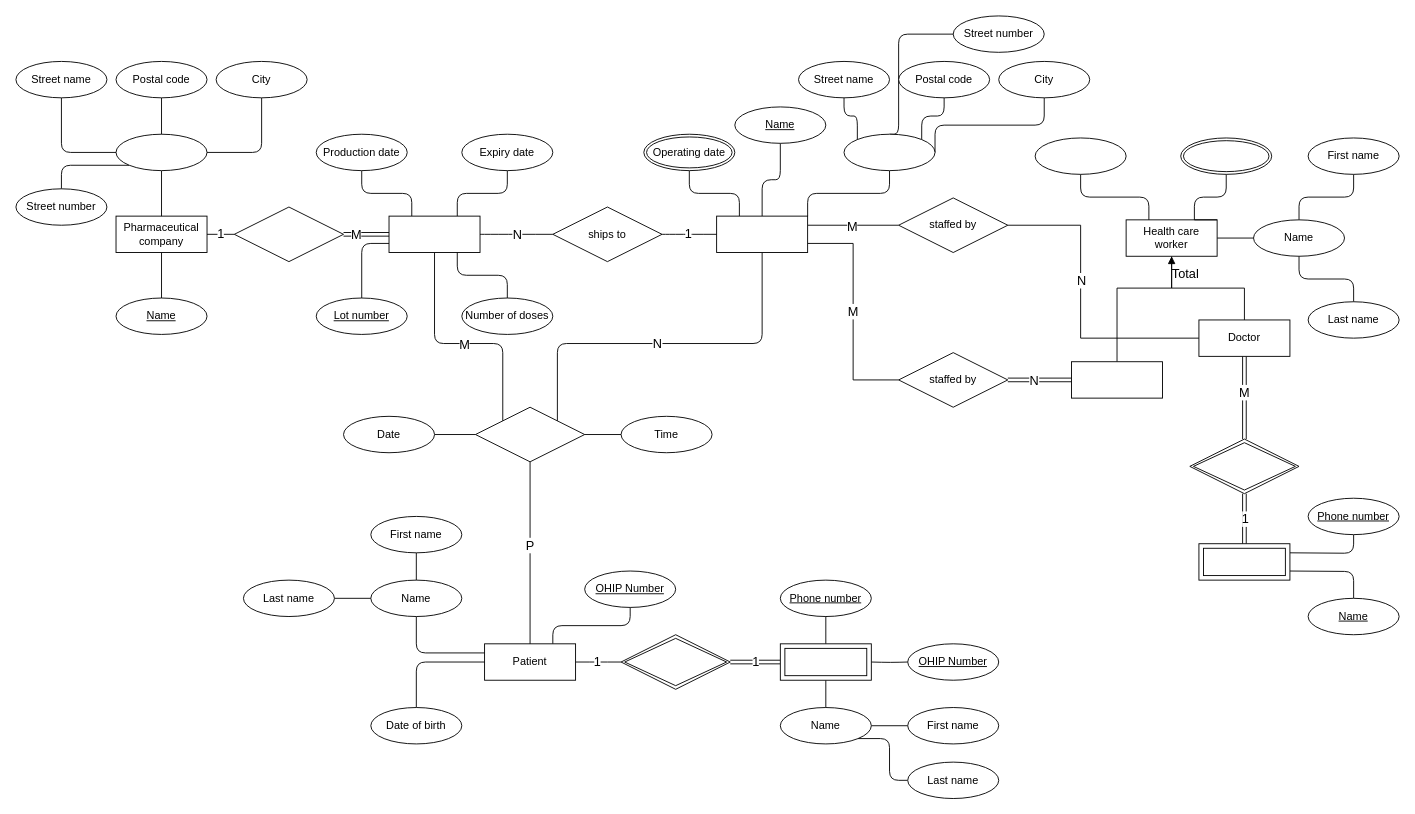
This 1415x814 diagram has some shape labels left out. The shapes that lost their labels are listed below. From the top down, each one's centre as x and y in pixels, then its label:
At (161,152): "Head office address".
At (889,152): "Address".
At (1080,155): "Unique ID".
At (1226,155): "Credential".
At (288,234): "produce".
At (434,234): "Vaccine lot".
At (762,234): "Vaccination sites".
At (1117,379): "Nurse".
At (530,434): "receives vaccine".
At (1244,466): "associated with".
At (1244,561): "Medical practice".
At (675,661): "married to".
At (825,661): "Spouse".
